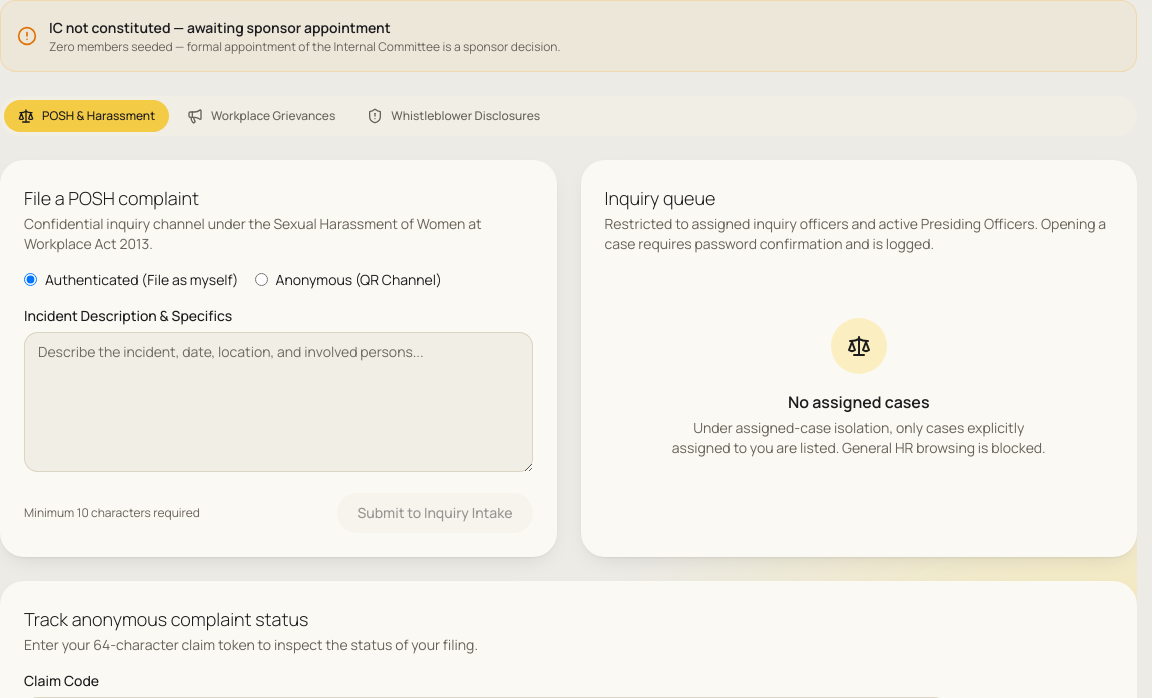
Test case: IrdCompliancePanels › switches between POSH, Grievance, and Whistleblower tabs
Click Grievance tab
Click the tab "Workplace Grievances" at (261, 116), box [173,100,349,132]
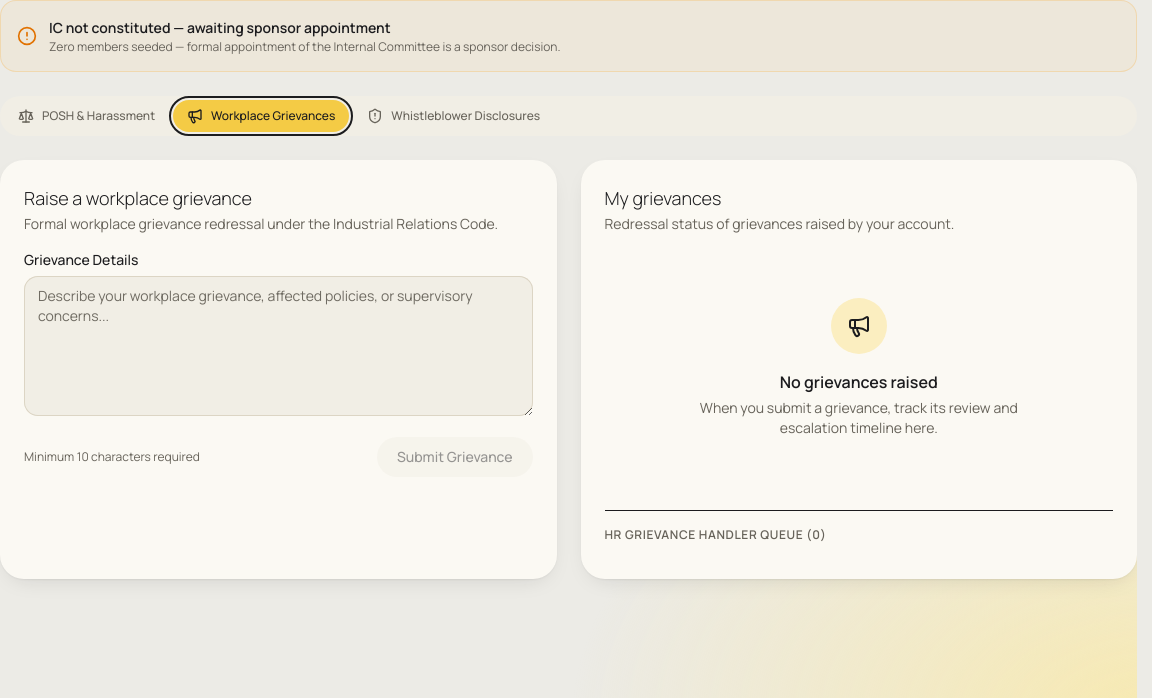
Now the heading "Raise a workplace grievance" is shown, box [24,186,252,210]
Click Whistleblower tab
Click the tab "Whistleblower Disclosures" at (454, 116), box [353,100,554,132]
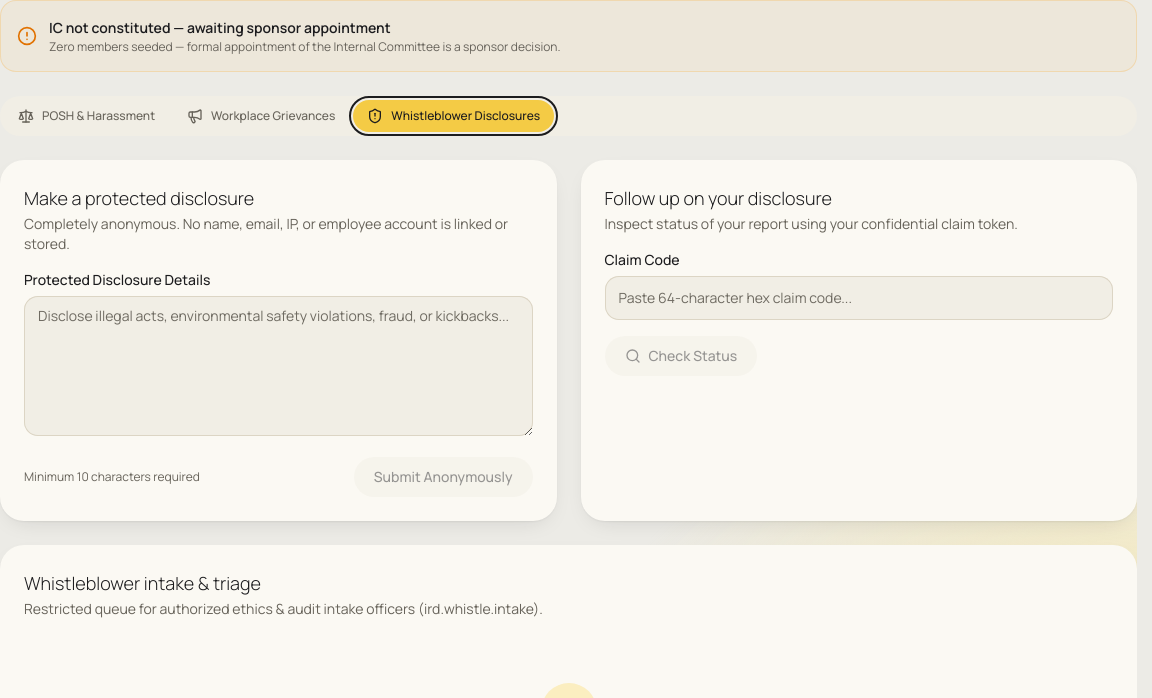
Now the heading "Make a protected disclosure" is shown, box [24,186,254,210]
